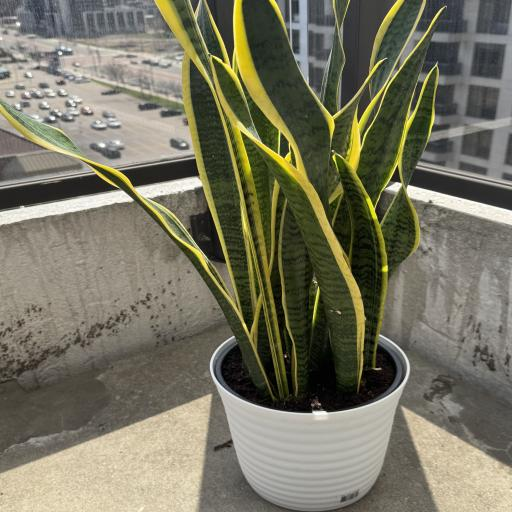Plant Pot: (210, 332, 410, 512)
